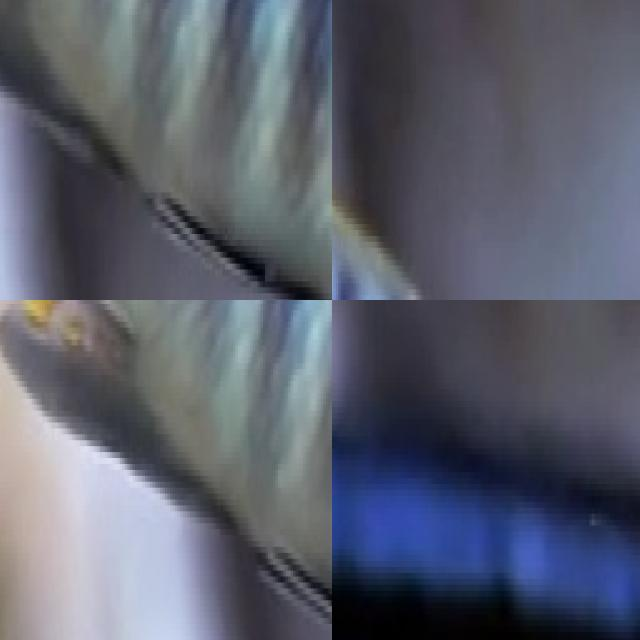fish: (0, 300, 332, 640), (0, 0, 332, 300), (332, 0, 559, 300)
